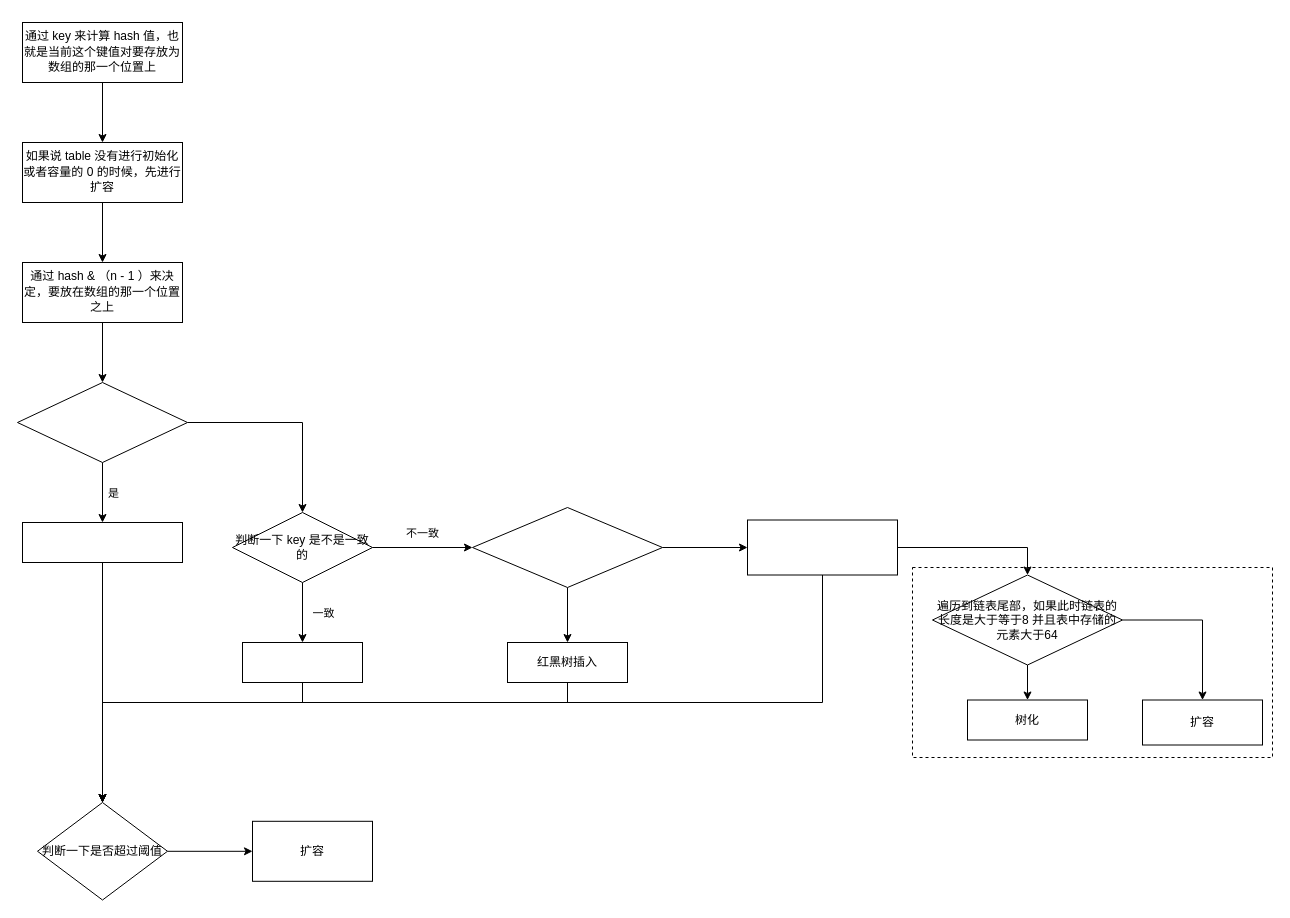
Image size: 1290x918. Some labels were removed from this diagram. Here are the shapes that lost their labels. From the top down, the centre of each, then its label:
At point 102,422: "如果当前位置没有元素插入".
At point 102,542: "直接插入".
At point 567,547: "如果是当前节点是红黑树节点".
At point 822,547: "遍历链表，进行插入尾插".
At point 302,662: "直接覆盖".
